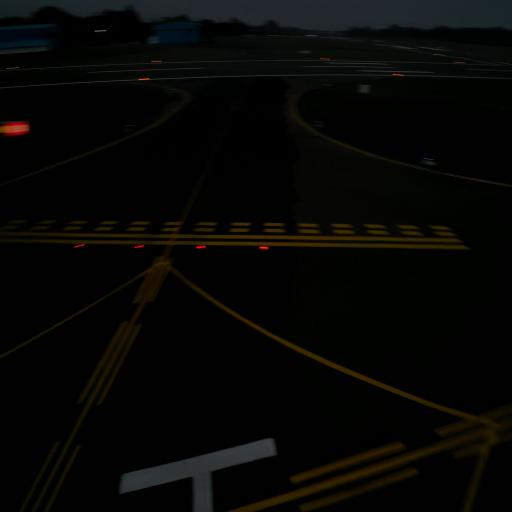on: (194, 237, 209, 259), (72, 237, 88, 255), (130, 240, 147, 256), (257, 243, 271, 256)
